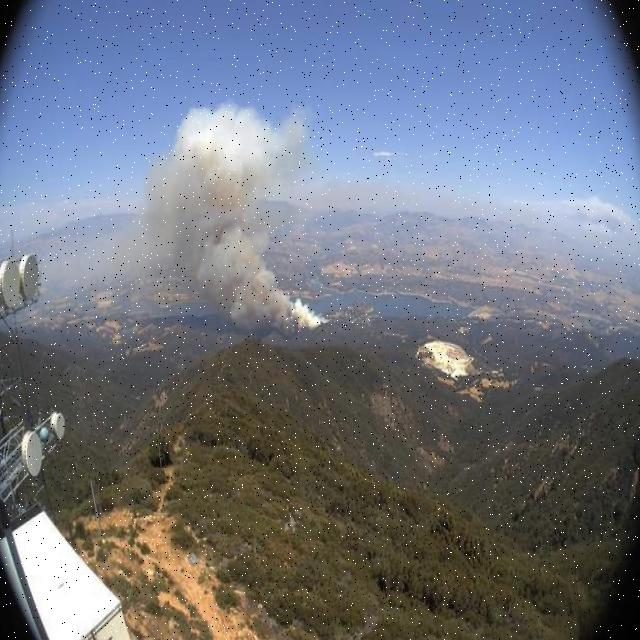smoke: (133, 93, 343, 335)
